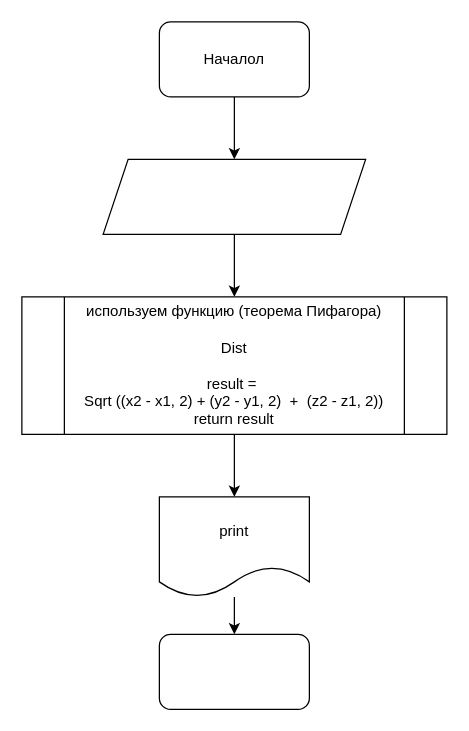
Some shapes in this 469 by 731 pixel diagram are drawn without their labels. Here are the shapes that lost their labels. From the top down, the box of each, then its label:
(102, 158, 366, 234): Вводим координаты точек double x1, y1, z1 double x2, y2, z2
(158, 633, 309, 709): Конец
